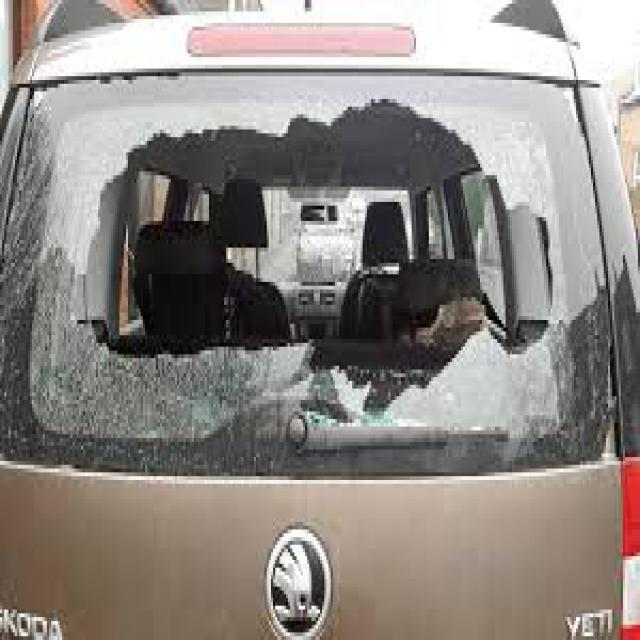Rear-windscreen-Damage: (13, 46, 612, 530)
